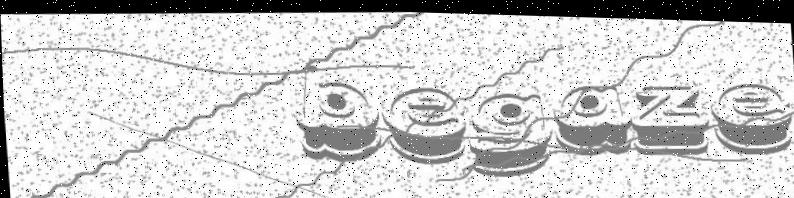a: (546, 75, 633, 155)
b: (291, 56, 385, 159)
e: (379, 76, 469, 159), (708, 72, 794, 155)
g: (464, 84, 552, 177)
z: (629, 76, 712, 155)
